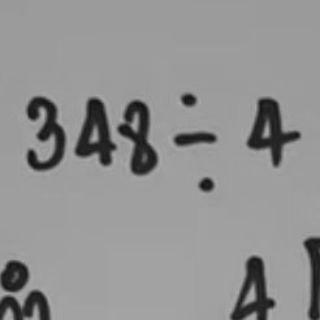.: (189, 168, 224, 202), (171, 83, 205, 117)
3: (21, 94, 67, 172)
4: (244, 95, 304, 169), (71, 95, 120, 170)
8: (115, 98, 163, 177)
